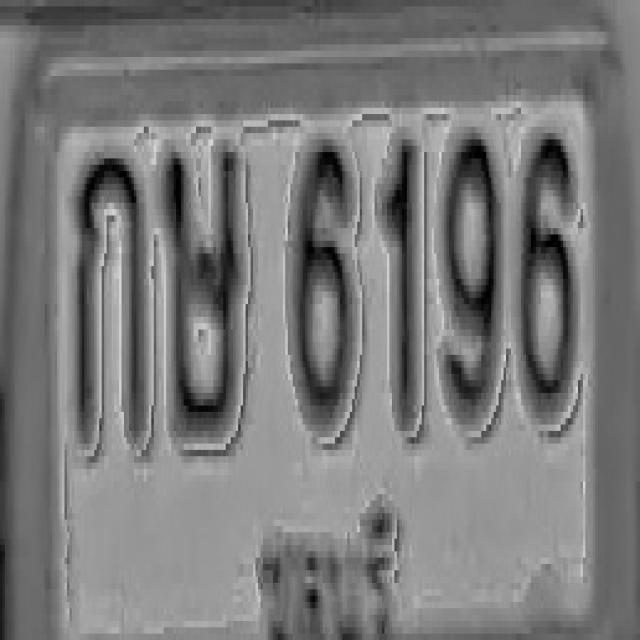1: (381, 130, 418, 434)
10GorGai: (72, 149, 149, 447)
48SorRueSi: (161, 142, 243, 440)
6: (292, 133, 354, 425), (517, 124, 574, 415)
9: (442, 127, 498, 418)
Chonburi: (243, 475, 409, 640)
